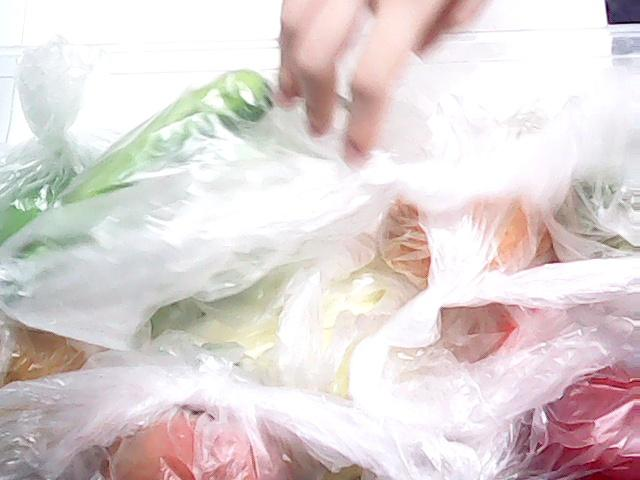apple: (504, 356, 640, 480)
cabbage: (0, 142, 94, 284)
carrot: (472, 258, 592, 376)
lemon: (374, 158, 544, 286)
napa cabbage: (109, 248, 459, 429)
peach: (101, 402, 303, 480)
pepper: (0, 69, 278, 274)
potato: (0, 315, 116, 397)
